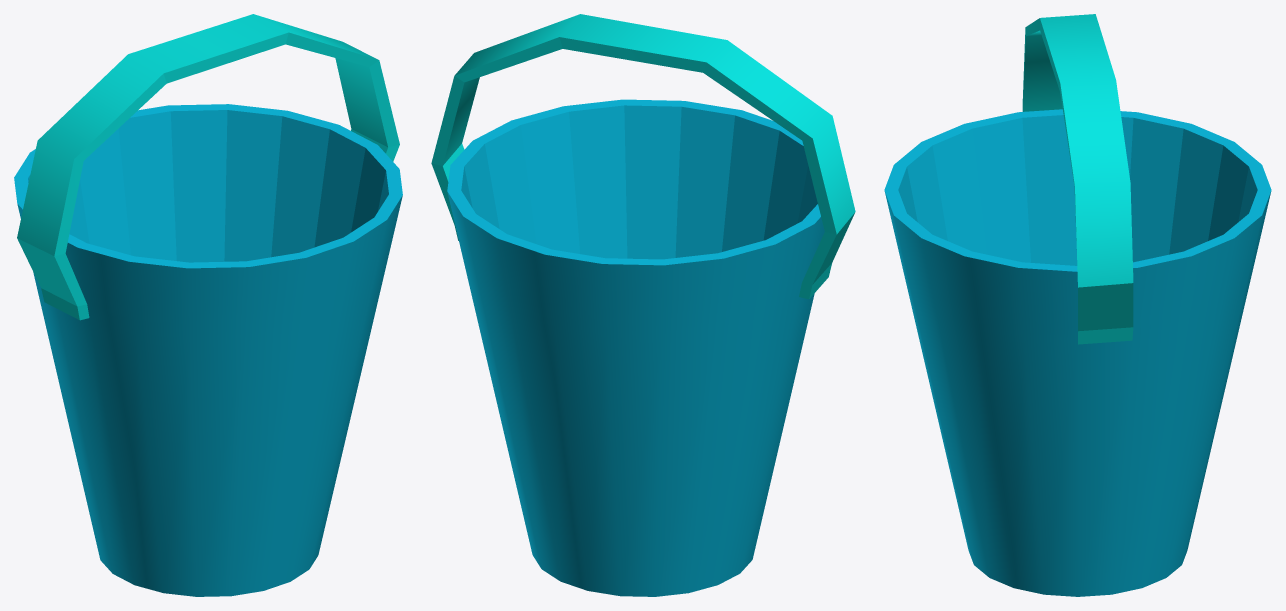
Rendered from balti.fbx.
The picture shows the model from 3 angles, left to right: view 1: azimuth 30°, elevation 25°; view 2: azimuth 150°, elevation 25°; view 3: azimuth 270°, elevation 25°; orthographic projection.
Visible parts, largest first — view 1: pCylinder5; view 2: pCylinder5; view 3: pCylinder5.
Part boxes in pixels (bbox=[...]): pCylinder5: bbox=[14, 14, 402, 596]; pCylinder5: bbox=[431, 14, 855, 596]; pCylinder5: bbox=[884, 14, 1271, 596].
Size of the model in its own units: 2.95 by 3.73 by 2.6.
